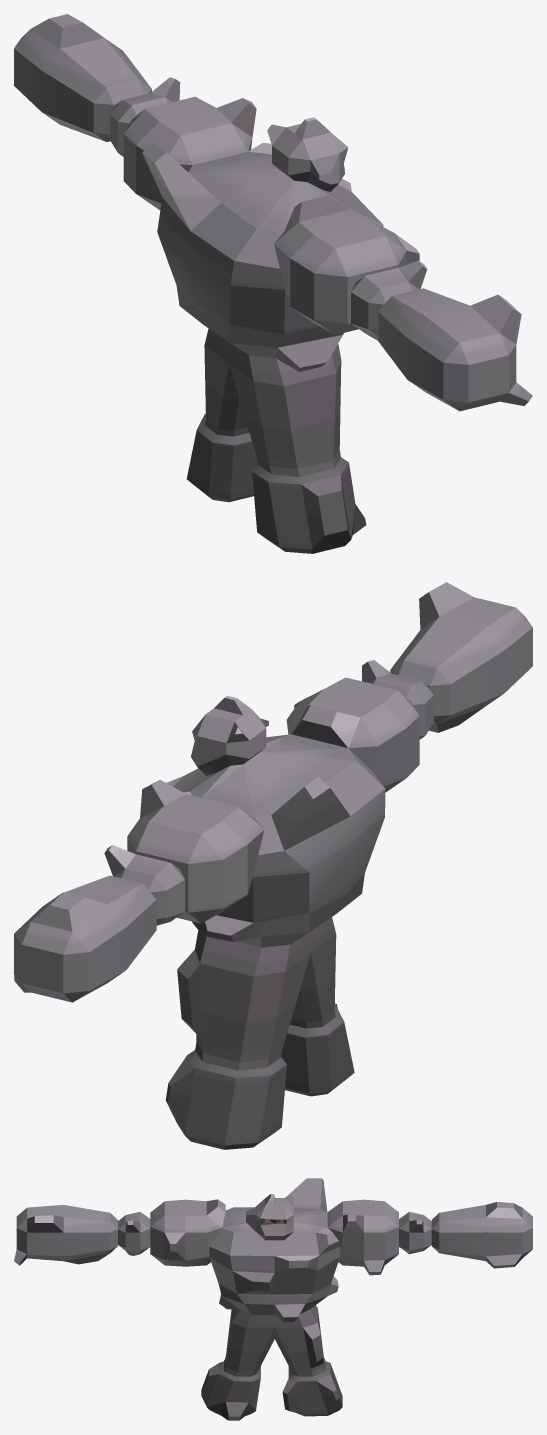
File: Boss_3_stone_golem.fbx
The picture shows the model from 3 angles, top to bottom: view 1: azimuth 30°, elevation 25°; view 2: azimuth 150°, elevation 25°; view 3: azimuth 270°, elevation 25°; orthographic projection. The views are drawn at different scales.
Visible parts, largest first — view 1: Boss_2; view 2: Boss_2; view 3: Boss_2.
Boxes of the visible parts, x1,y1,x2,y2 form: Boss_2: (14,14,532,553); Boss_2: (14,582,532,1149); Boss_2: (14,1178,532,1420).
Bounding box in the file's own units: 0.0175 × 0.0355 × 0.0753.
